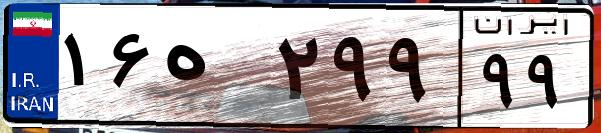1: (57, 26, 110, 100)
2: (270, 28, 330, 110)
6: (110, 28, 158, 98)
9: (385, 28, 445, 110), (330, 28, 385, 110), (475, 38, 525, 113), (525, 38, 570, 115)
ه: (158, 20, 270, 120)
